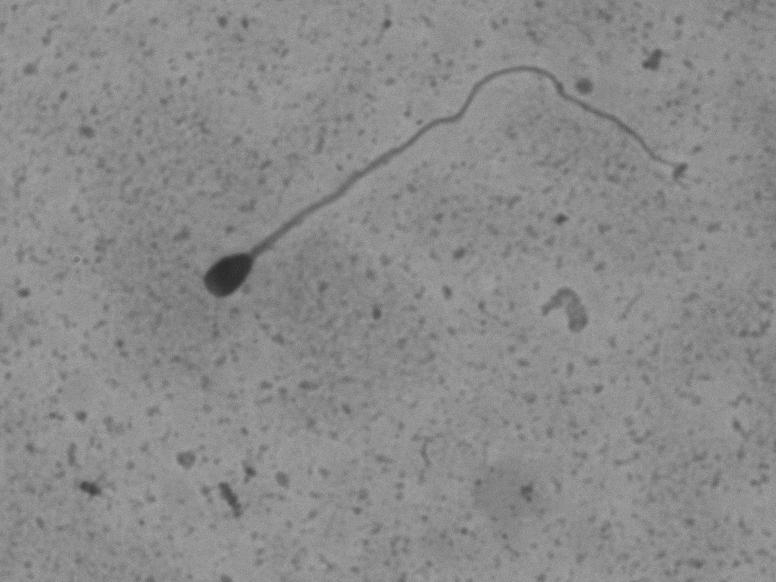Normal: (145, 54, 691, 353)
